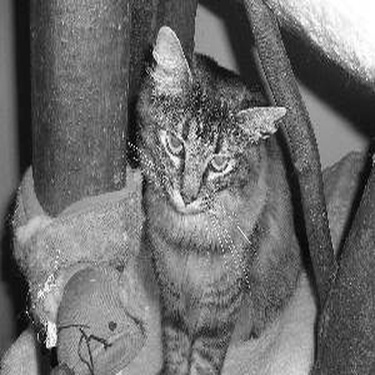cat: (120, 21, 305, 358)
